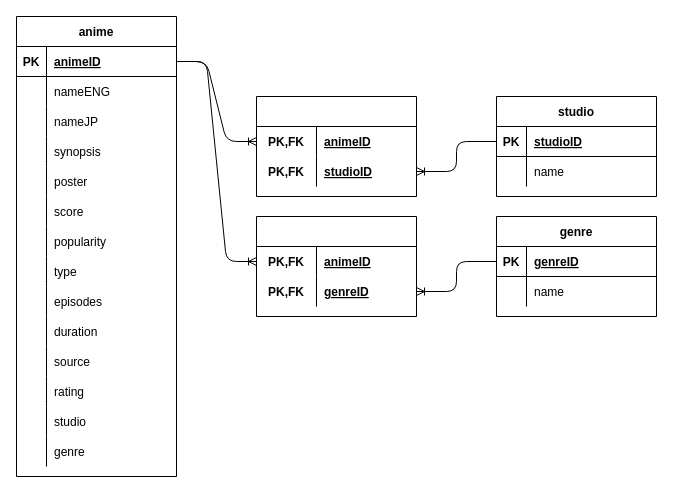
The diagram is 673 pixels wide and 493 high, and some of its shapes have lost their labels. The box of each missing label's shape, as (x1, y1, x2, y2) in pixels:
animeGenre: (256, 216, 416, 316)
animeStudio: (256, 96, 416, 196)
